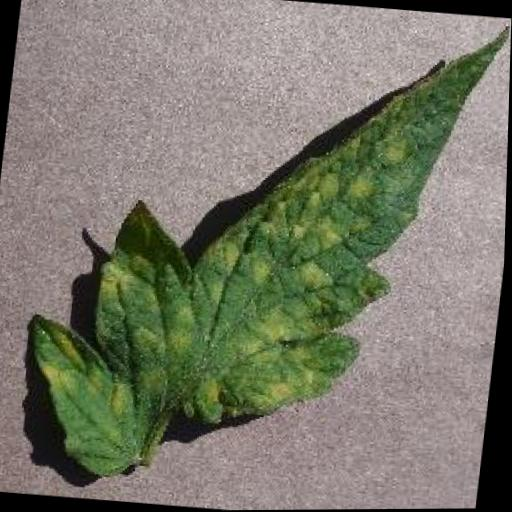Leaf Mold: (10, 0, 509, 504)
